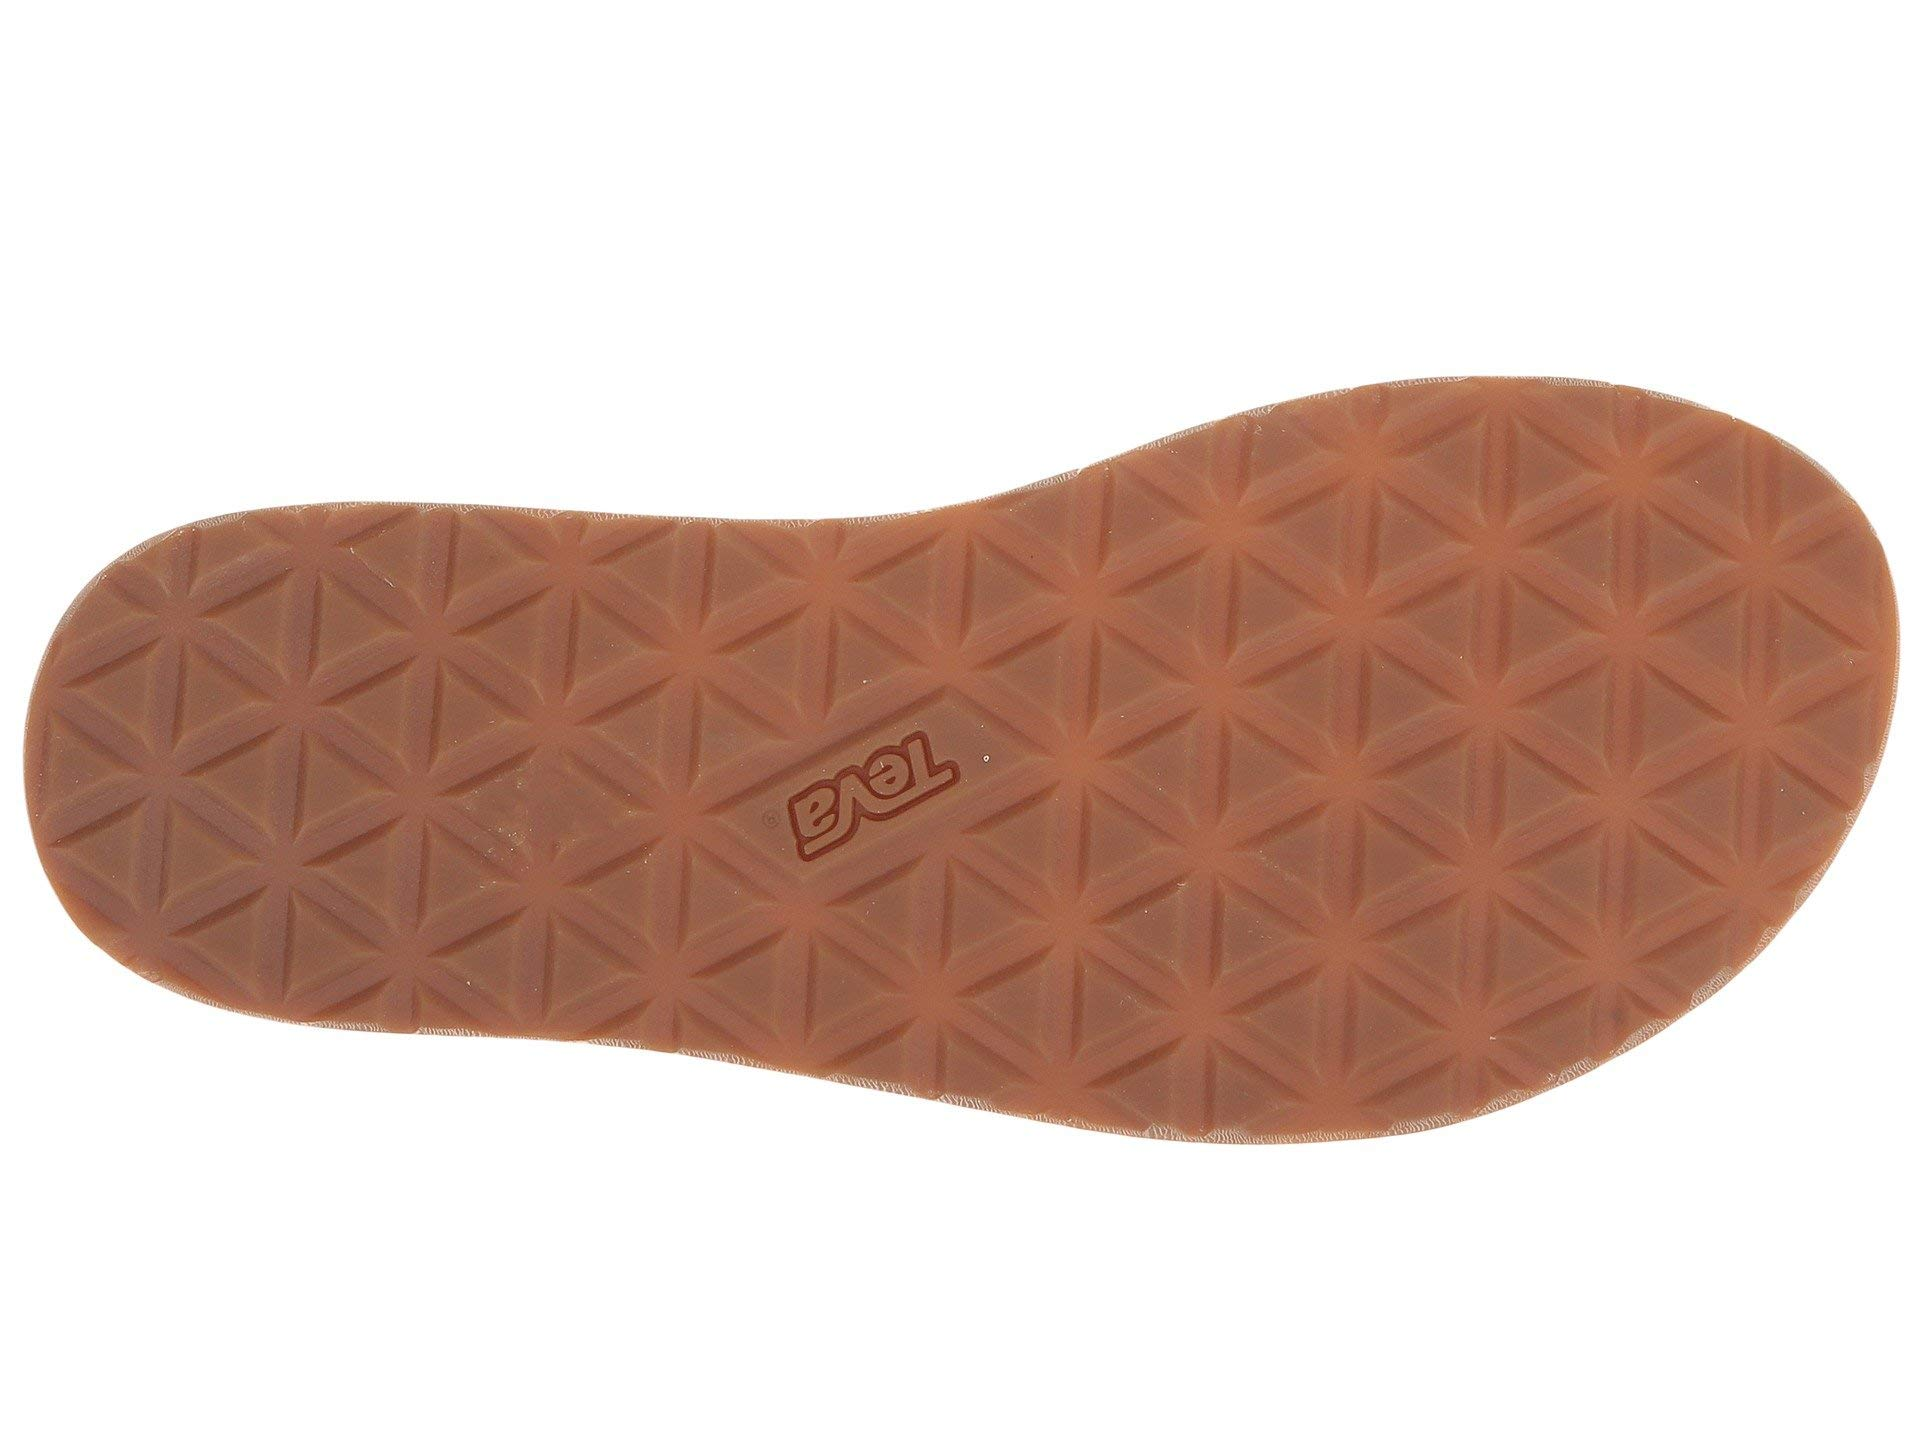polygon: (1135, 464, 1636, 1054)
quad: (1135, 464, 1636, 1054)
star: (1135, 464, 1636, 1054)
triangle: (1135, 464, 1636, 1054)
